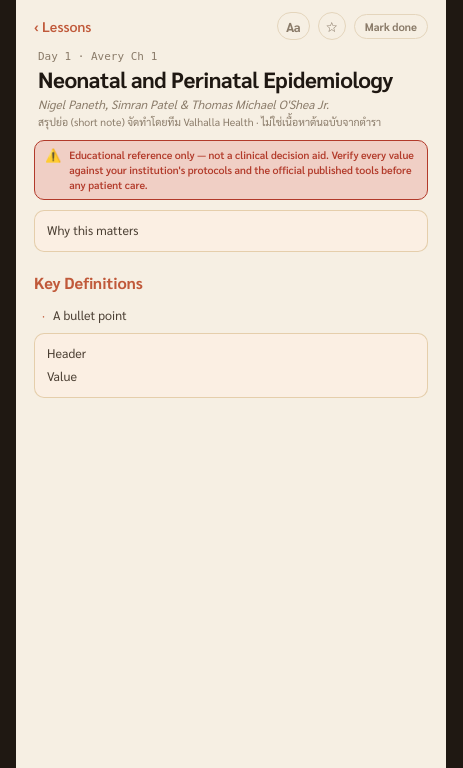
Test: <LessonDetail /> › cycles the text-size zoom through 1.5x/2x/2.5x back to normal and persists it
This screenshot has width=463, height=768.
Expected: the text "Key Definitions" is shown, [34,272,143,293]
Click the button with aria-label "Text size 1×" at [293, 26], box [277,12,310,40]
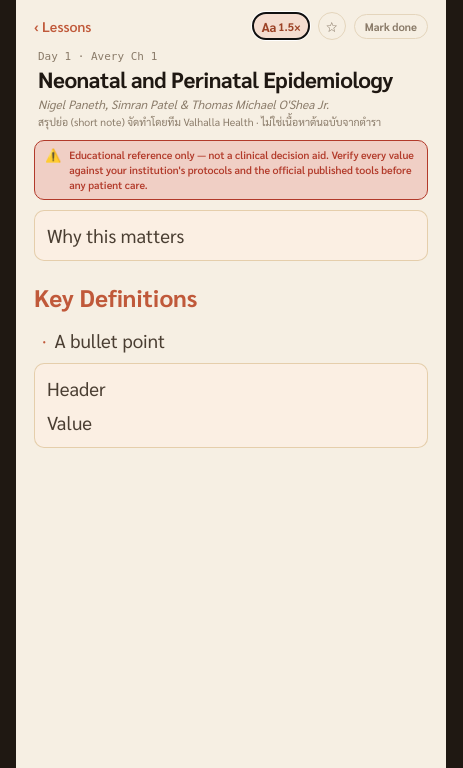
Result: the button with aria-label "Text size 1.5×" is shown
Click the button with aria-label "Text size 1.5×" at [281, 26], box [252,12,310,40]
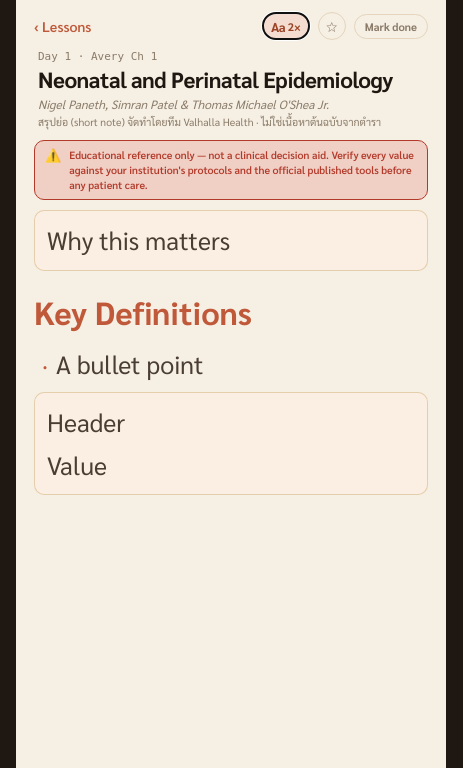
Result: the button with aria-label "Text size 2×" is shown
Click the button with aria-label "Text size 2×" at [286, 26], box [262,12,310,40]
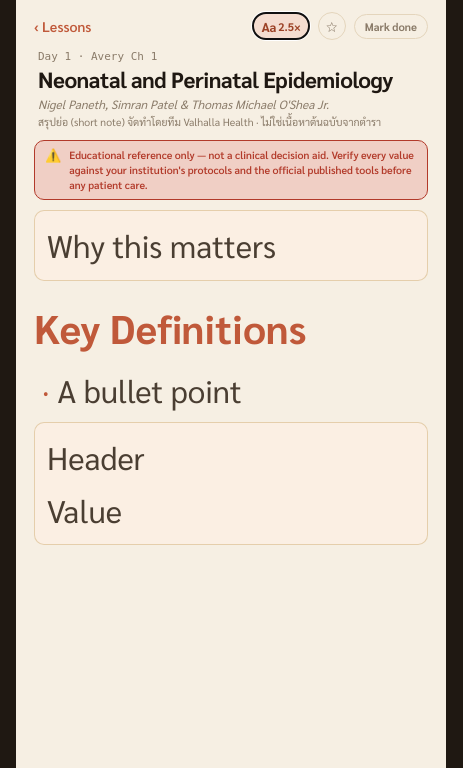
Result: the button with aria-label "Text size 2.5×" is shown
Click the button with aria-label "Text size 2.5×" at [281, 26], box [252,12,310,40]
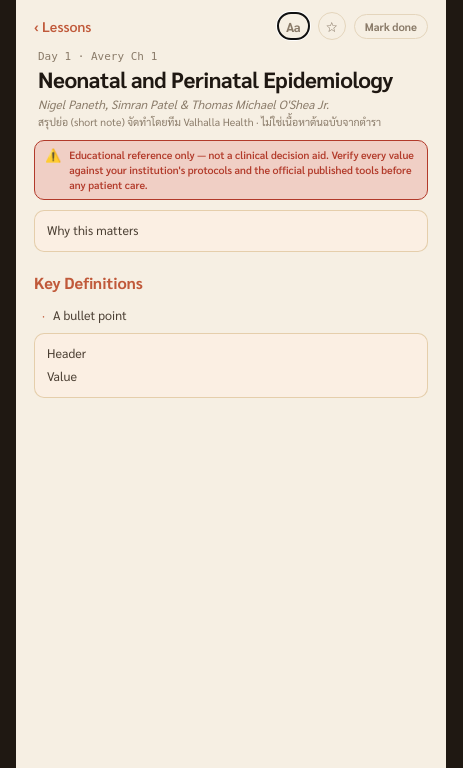
Result: the button with aria-label "Text size 1×" is shown at [277,12,310,40]
